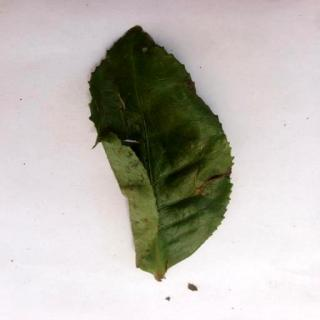Algal Leaf: (89, 25, 236, 280)
